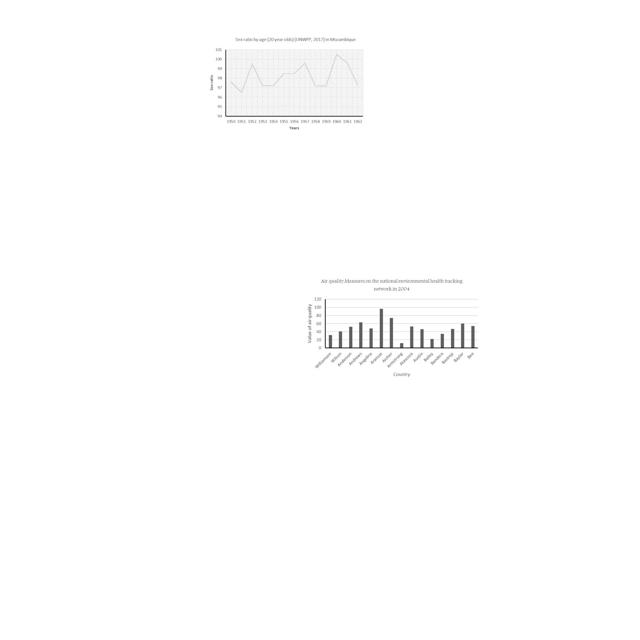Graph: (302, 275, 480, 380), (205, 35, 366, 134)
